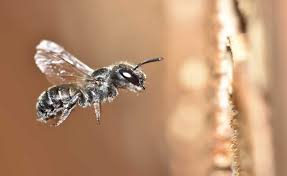insect: (32, 39, 160, 131)
